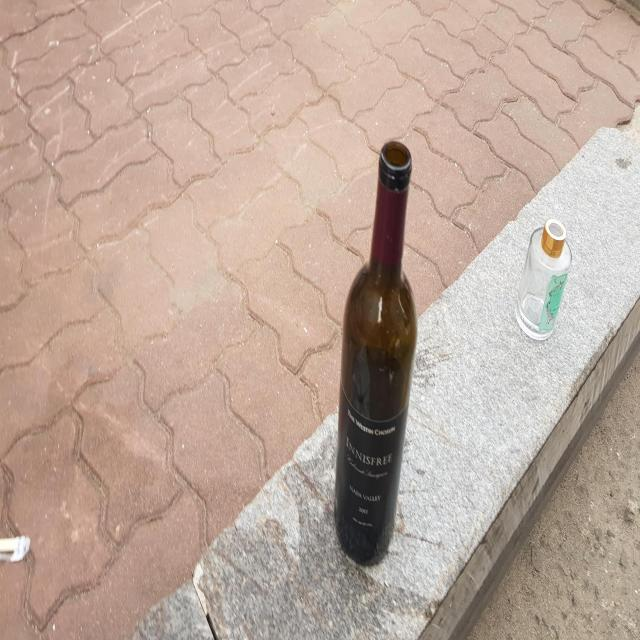glass: (335, 140, 418, 564), (517, 216, 573, 339)
